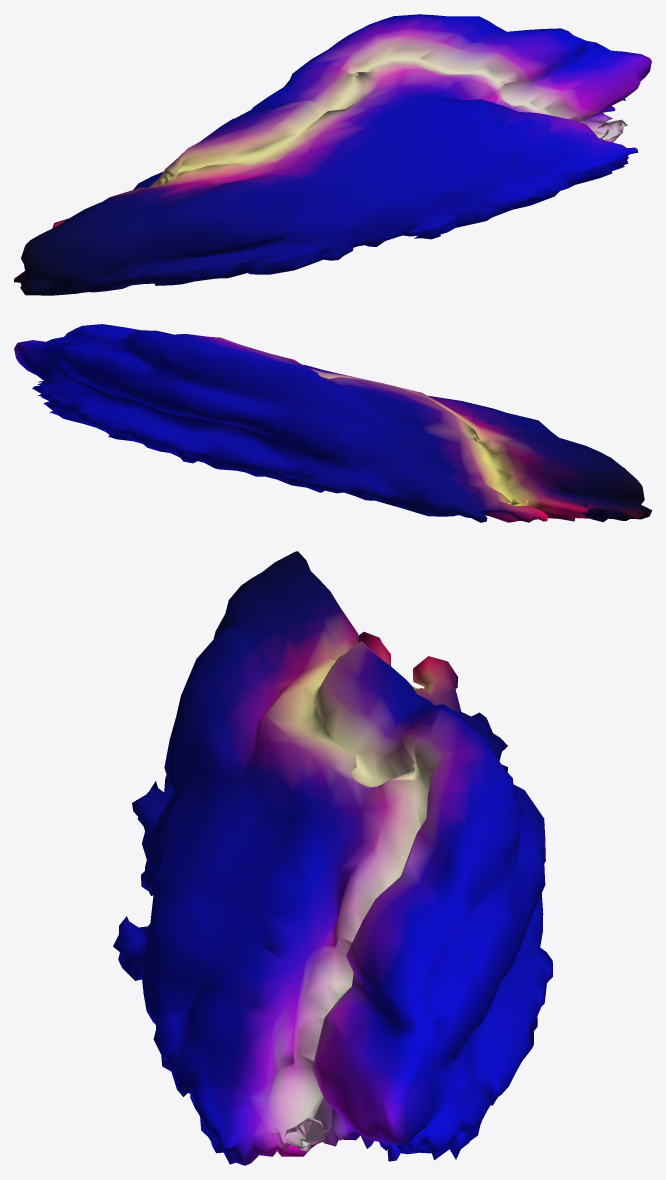
File: ember_iron_vein-u6-cold-lod0.gltf
The picture shows the model from 3 angles, top to bottom: view 1: azimuth 30°, elevation 25°; view 2: azimuth 150°, elevation 25°; view 3: azimuth 270°, elevation 25°; orthographic projection. The views are drawn at different scales.
Parts seen in each view (by area): view 1: ember_iron_vein-u6-cold-lod0; view 2: ember_iron_vein-u6-cold-lod0; view 3: ember_iron_vein-u6-cold-lod0.
Boxes of the visible parts, x1=… form: ember_iron_vein-u6-cold-lod0: x1=14, y1=14, x2=651, y2=295; ember_iron_vein-u6-cold-lod0: x1=14, y1=324, x2=651, y2=522; ember_iron_vein-u6-cold-lod0: x1=113, y1=551, x2=552, y2=1165.
Bounding box in the file's own units: 2.48 × 0.4884 × 0.7779.
